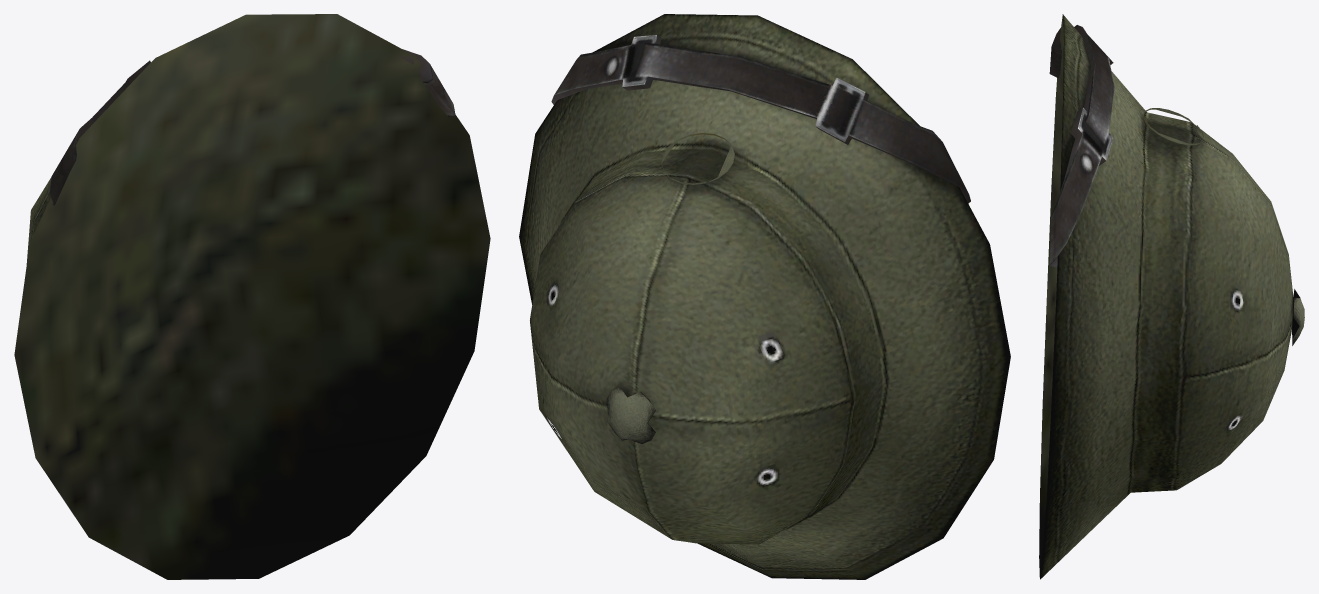
File: pith_plain.glb
3 renders of one model, left to right at view 1: azimuth 30°, elevation 25°; view 2: azimuth 150°, elevation 25°; view 3: azimuth 270°, elevation 25°, orthographic. The views are drawn at different scales.
Parts seen in each view (by area): view 1: pith_plain; view 2: pith_plain; view 3: pith_plain.
Boxes of the visible parts, <box> form: pith_plain: <box>14,14,490,579</box>; pith_plain: <box>519,14,1010,579</box>; pith_plain: <box>1039,14,1304,579</box>.
Size of the model in its own units: 0.2786 by 0.31 by 0.1432.
1 material, 1 textured.
